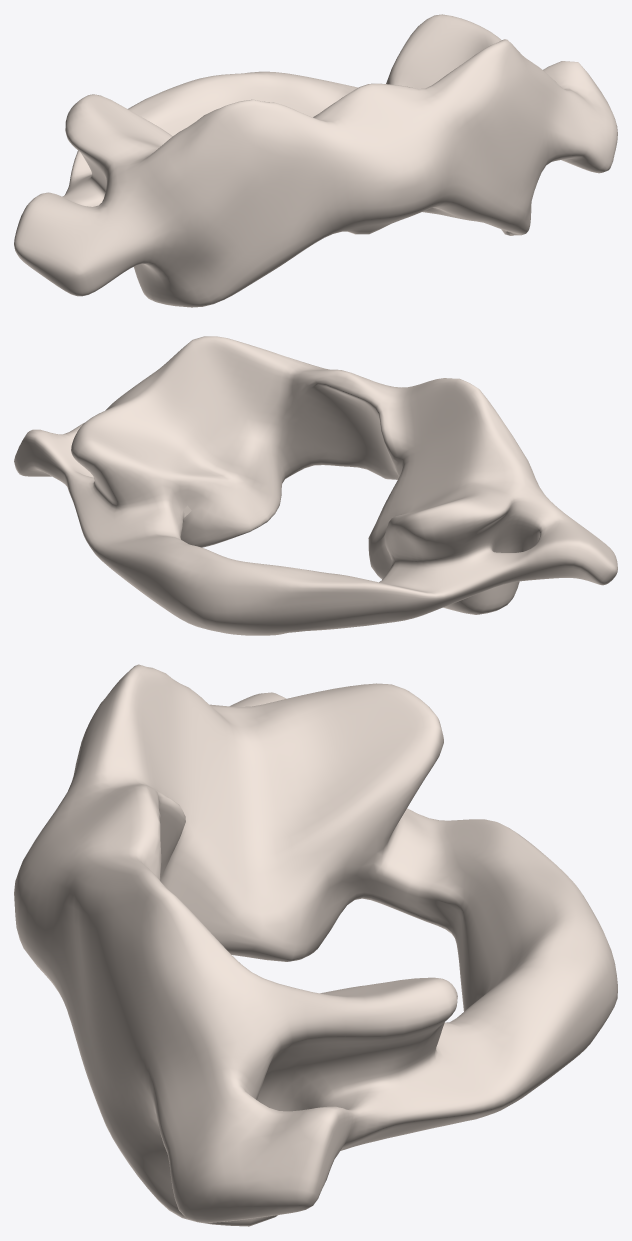
Rendered from frau2-1066.glb.
3 renders of one model, top to bottom at view 1: azimuth 30°, elevation 25°; view 2: azimuth 150°, elevation 25°; view 3: azimuth 270°, elevation 25°, orthographic. The views are drawn at different scales.
Parts seen in each view (by area): view 1: VH_F_cervical_vertebra_1; view 2: VH_F_cervical_vertebra_1; view 3: VH_F_cervical_vertebra_1.
Part boxes in pixels (x1,y1,x2,y2): VH_F_cervical_vertebra_1: (14,14,617,307); VH_F_cervical_vertebra_1: (14,336,617,635); VH_F_cervical_vertebra_1: (14,664,617,1226).
Bounding box in the file's own units: 0.0865 × 0.0302 × 0.0491.
